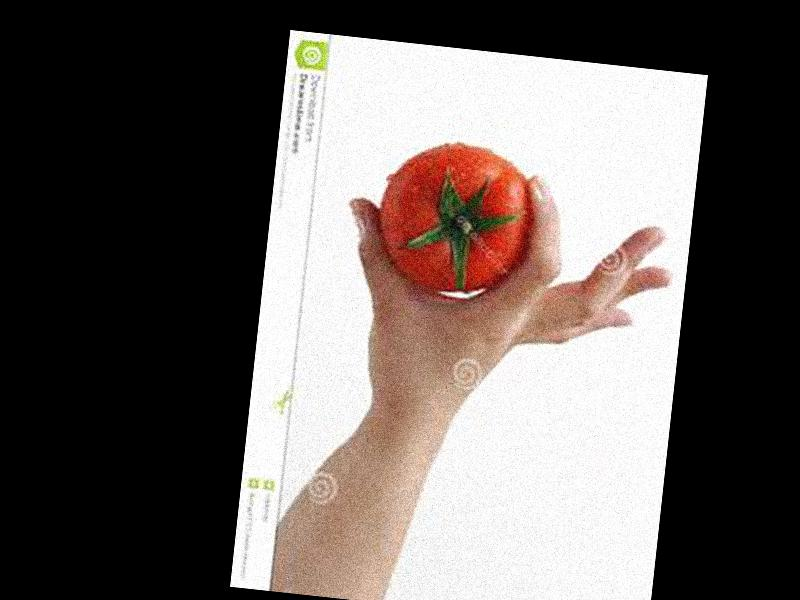Tomato: (372, 135, 540, 300)
